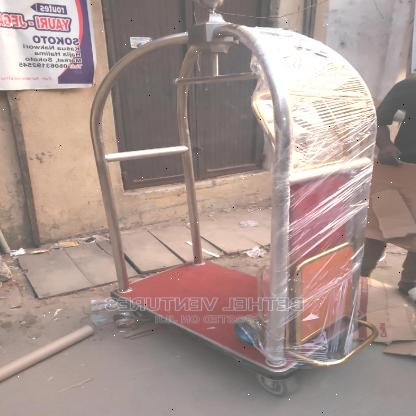airport-trolley: (89, 0, 377, 395)
